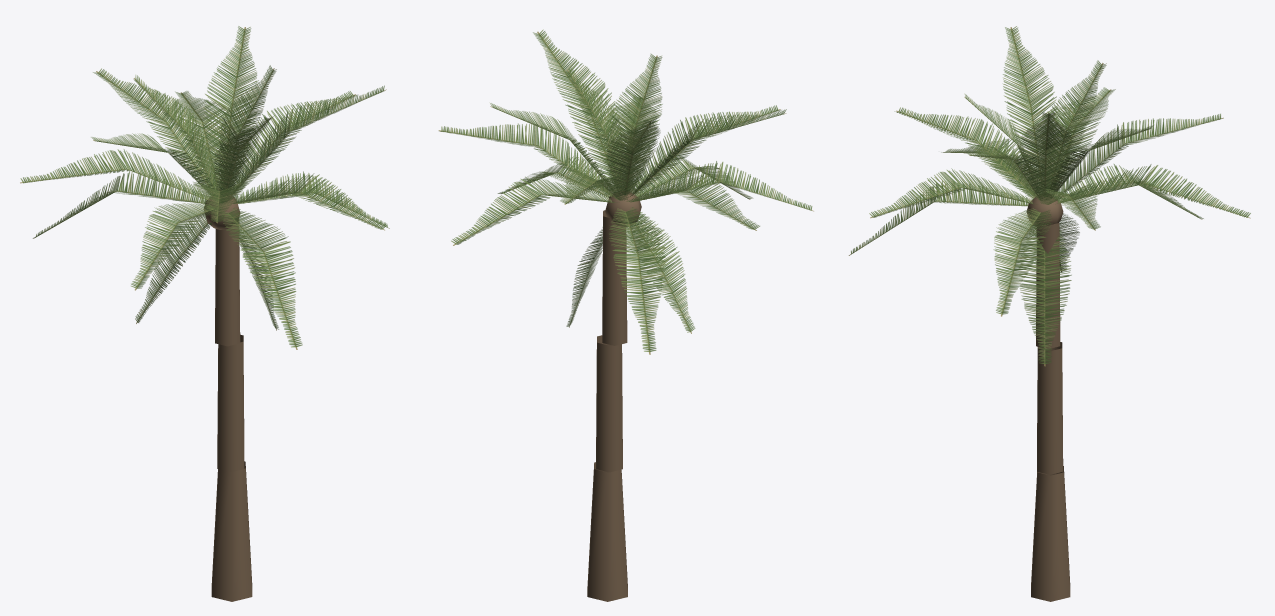
The model's file is palm.glb.
3 renders of one model, left to right at view 1: azimuth 30°, elevation 25°; view 2: azimuth 150°, elevation 25°; view 3: azimuth 270°, elevation 25°, orthographic. The views are drawn at different scales.
Visible parts, largest first — view 1: palm; view 2: palm; view 3: palm.
Part boxes in pixels (left/top/right/bottom): palm: left=20, top=26, right=389, bottom=601; palm: left=438, top=29, right=813, bottom=601; palm: left=848, top=26, right=1250, bottom=601.
Bounding box in the file's own units: 7.09 × 10.34 × 7.66.
3 materials, 2 textured.
